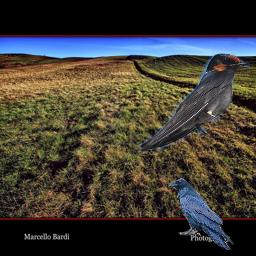Crow: (167, 178, 234, 250)
Swallow: (139, 53, 250, 150)
